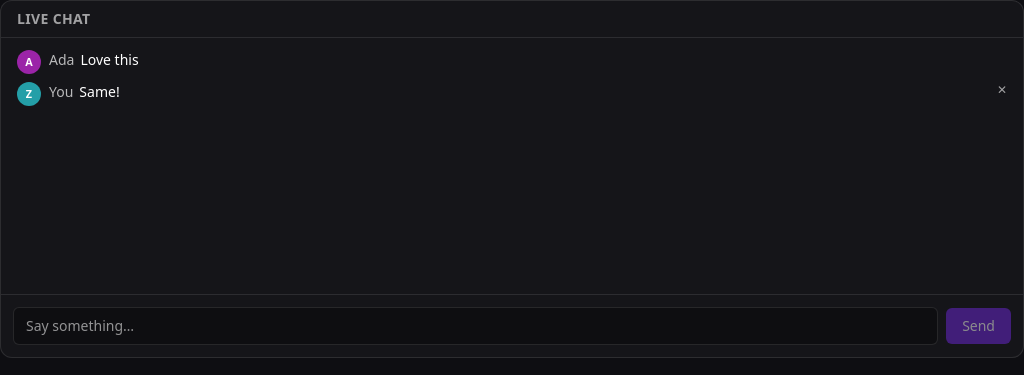
Scenario: LiveChat › sends a trimmed comment, shows it and clears the box
Type "  Great set  " into the field named "Comment" at (476, 326), box 13,307 -> 938,345
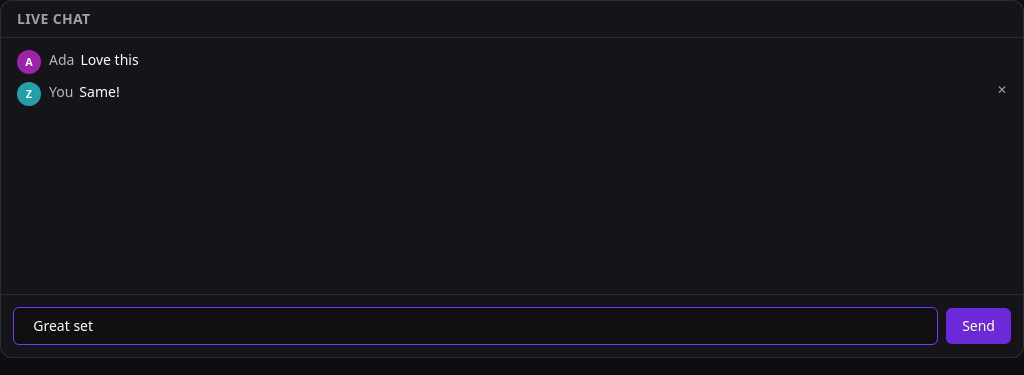
Click the button "Send" at (979, 326), box 946,308 -> 1011,344
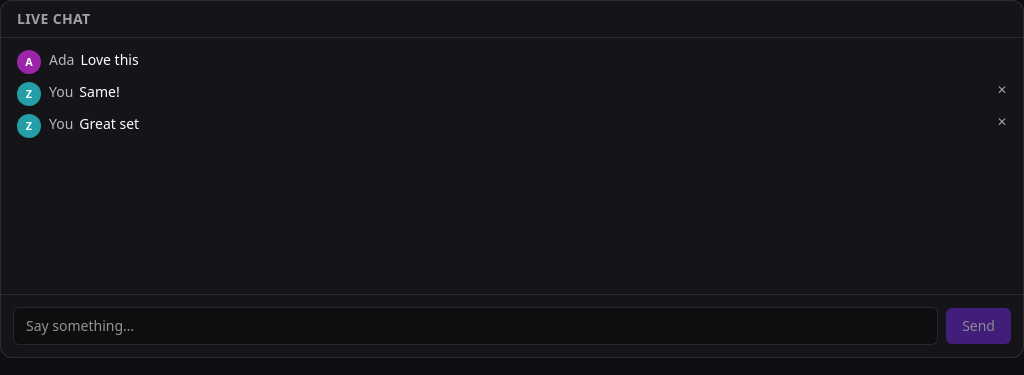
Check: the text "Great set" is shown, box 79,114 -> 139,133
Check: the field named "Comment" is empty, box 13,307 -> 938,345
